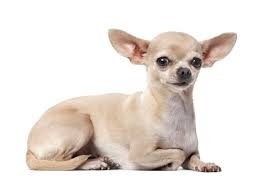chihuahua: (26, 30, 238, 171)
